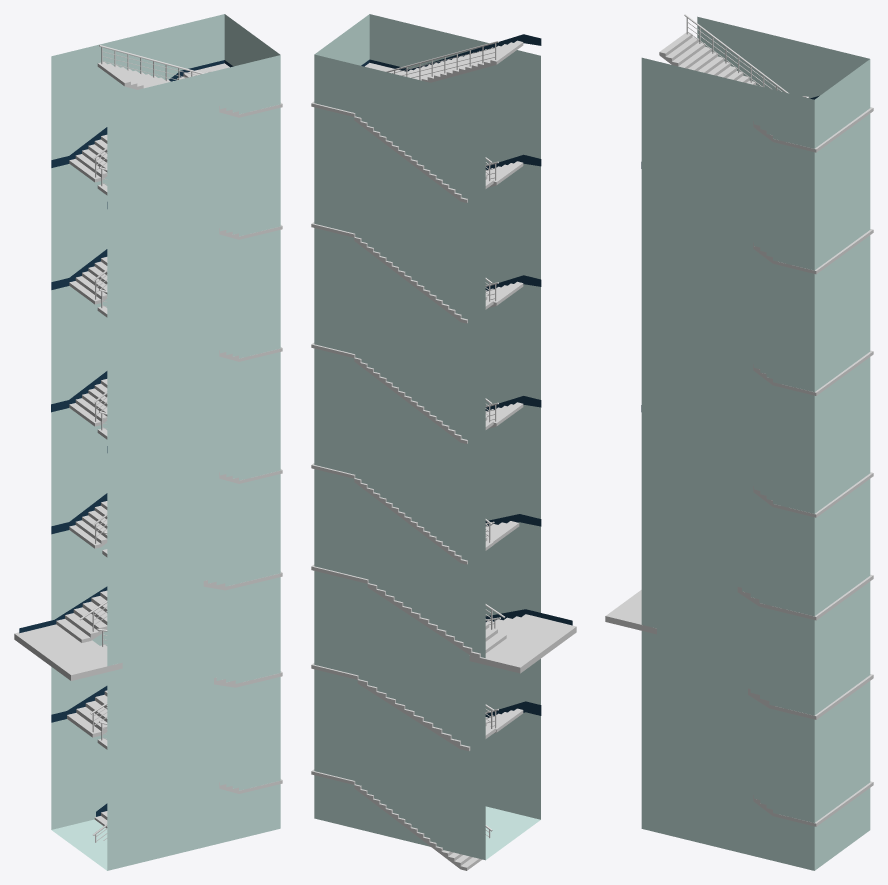
The model's file is UTypeStair_R.fbx.
3 renders of one model, left to right at view 1: azimuth 30°, elevation 25°; view 2: azimuth 150°, elevation 25°; view 3: azimuth 330°, elevation 25°, orthographic.
Parts seen in each view (by area): view 1: Srair_Passage_1F001, Srair_Passage_B1F001, Srair_Passage_4F001, Srair_Passage_3F001, Srair_Passage_2F001, Stair_Floor_B1F002, UTypeStair_4F001, UTypeStair_B1_b002, UTypeStair_B1_a002, UTypeStair_1F002, UTypeStair_2F002, UTypeStair_3F002 (+2 smaller); view 2: Srair_Passage_1F001, Srair_Passage_B1F001, Srair_Passage_4F001, Srair_Passage_3F001, Srair_Passage_2F001, UTypeStair_4F001, Stair_Floor_B1F002, UTypeStair_B1_b002, UTypeStair_B2F_002, UTypeStair_1F002, UTypeStair_2F002, UTypeStair_3F002 (+2 smaller); view 3: Srair_Passage_1F001, Srair_Passage_B1F001, Srair_Passage_4F001, Srair_Passage_3F001, Srair_Passage_2F001, UTypeStair_4F001, Stair_Floor_B1F002, UTypeStair_B1_b002, UTypeStair_B1_a002, UTypeStair_1F002, UTypeStair_2F002, UTypeStair_B2F_002 (+2 smaller).
Boxes of the visible parts, left/top/right/bottom form: Srair_Passage_1F001: left=19, top=408, right=280, bottom=666; Srair_Passage_B1F001: left=51, top=624, right=280, bottom=870; Srair_Passage_4F001: left=51, top=14, right=280, bottom=219; Srair_Passage_3F001: left=51, top=171, right=280, bottom=341; Srair_Passage_2F001: left=51, top=293, right=280, bottom=452; Stair_Floor_B1F002: left=14, top=624, right=122, bottom=680; UTypeStair_4F001: left=69, top=45, right=282, bottom=182; UTypeStair_B1_b002: left=56, top=531, right=282, bottom=642; UTypeStair_B1_a002: left=67, top=628, right=282, bottom=737; UTypeStair_1F002: left=69, top=411, right=282, bottom=548; UTypeStair_2F002: left=69, top=289, right=282, bottom=426; UTypeStair_3F002: left=69, top=167, right=282, bottom=304; Srair_Passage_1F001: left=314, top=394, right=541, bottom=657; Srair_Passage_B1F001: left=314, top=605, right=572, bottom=860; Srair_Passage_4F001: left=314, top=14, right=541, bottom=216; Srair_Passage_3F001: left=314, top=155, right=540, bottom=337; Srair_Passage_2F001: left=314, top=275, right=541, bottom=447; UTypeStair_4F001: left=311, top=40, right=523, bottom=202; Stair_Floor_B1F002: left=469, top=614, right=576, bottom=673; UTypeStair_B1_b002: left=311, top=521, right=519, bottom=657; UTypeStair_B2F_002: left=311, top=708, right=523, bottom=870; UTypeStair_1F002: left=311, top=402, right=523, bottom=564; UTypeStair_2F002: left=311, top=281, right=523, bottom=443; UTypeStair_3F002: left=311, top=161, right=523, bottom=323; Srair_Passage_1F001: left=641, top=412, right=870, bottom=666; Srair_Passage_B1F001: left=641, top=626, right=870, bottom=870; Srair_Passage_4F001: left=641, top=16, right=870, bottom=221; Srair_Passage_3F001: left=641, top=179, right=870, bottom=342; Srair_Passage_2F001: left=641, top=301, right=870, bottom=454; UTypeStair_4F001: left=659, top=14, right=873, bottom=152; Stair_Floor_B1F002: left=605, top=590, right=656, bottom=634; UTypeStair_B1_b002: left=737, top=574, right=873, bottom=620; UTypeStair_B1_a002: left=748, top=674, right=873, bottom=719; UTypeStair_1F002: left=753, top=472, right=873, bottom=517; UTypeStair_2F002: left=753, top=350, right=873, bottom=395; UTypeStair_B2F_002: left=753, top=781, right=873, bottom=826.
Size of the model in its own units: 6.36 by 23.43 by 2.98.
